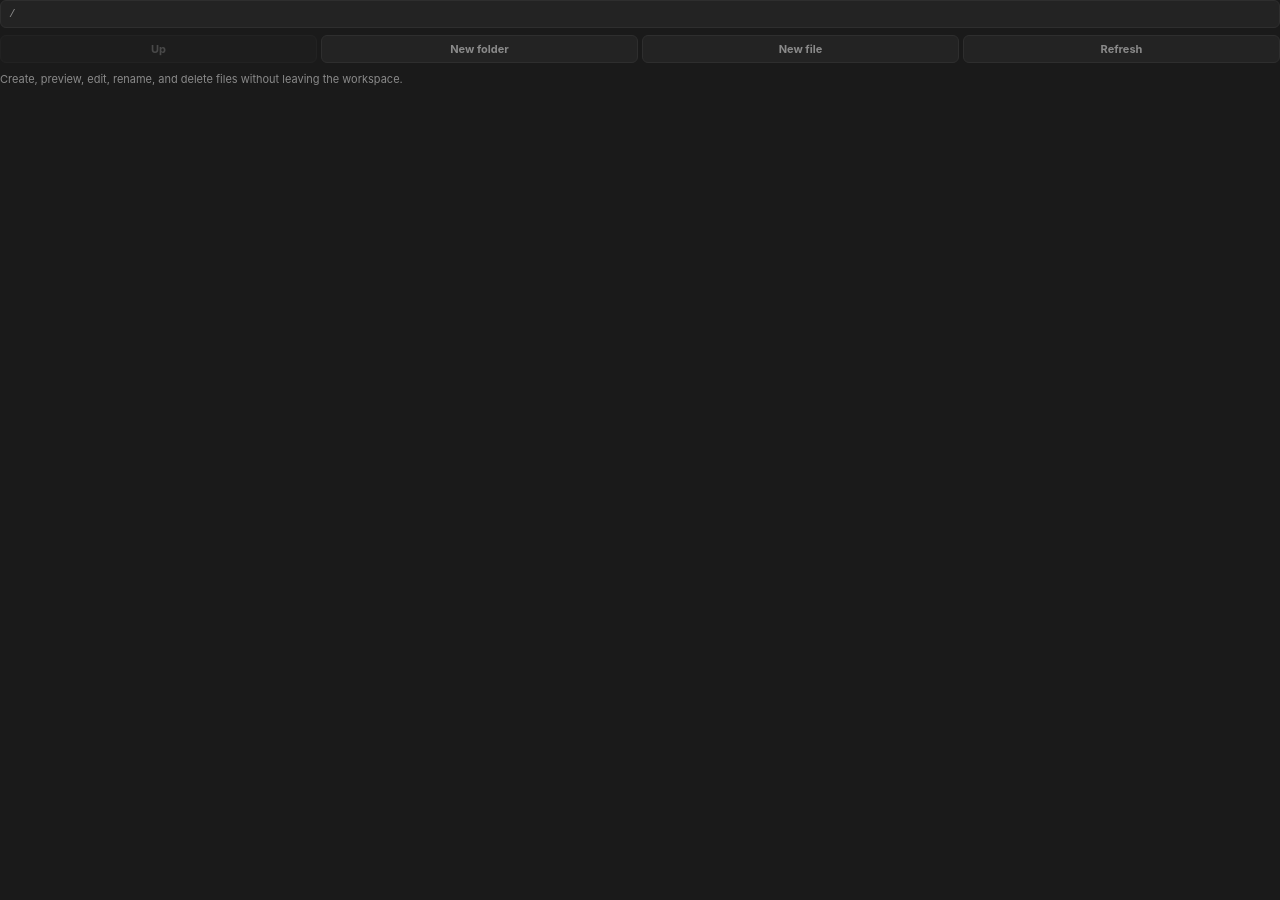
Test case: WorkspaceFilePanel - Folder Operations Unit Tests › Folder creation prompts for name (Requirement 2.1) › should show prompt when New folder button is clicked
The width and height of the screenshot is (1280, 900).
Click the button "New folder".
click(480, 49)  # box [321,35,638,63]
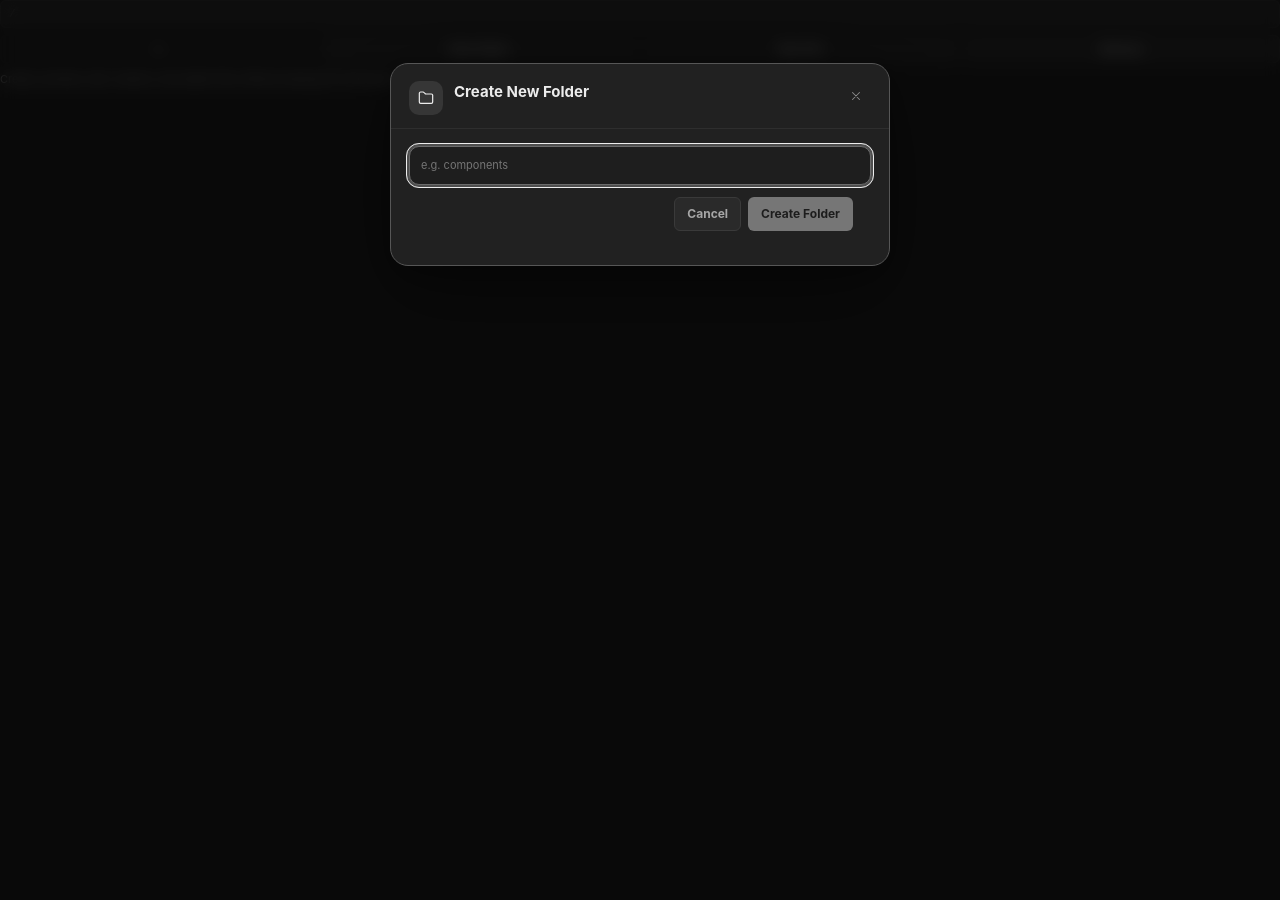
Check: the dialog is shown, box [390,63,890,266]
Check: the heading "Create New Folder" is shown, box [454,81,589,104]
